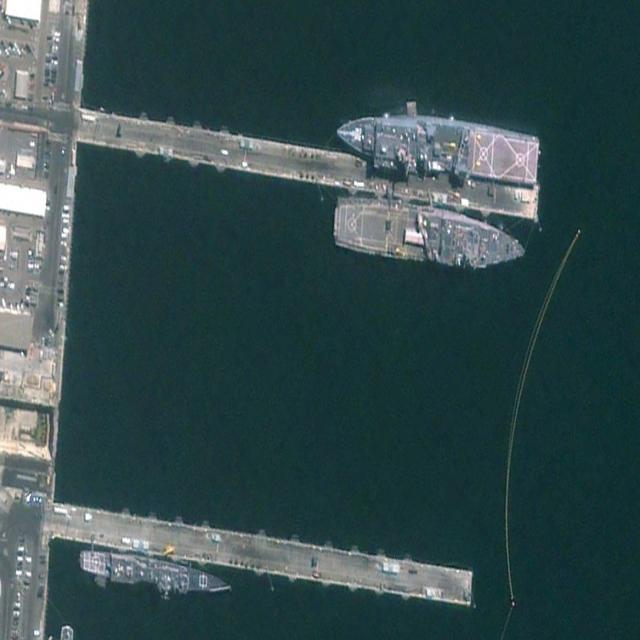Frigate: (78, 548, 232, 603)
Landing: (335, 104, 540, 191), (333, 191, 528, 281)
